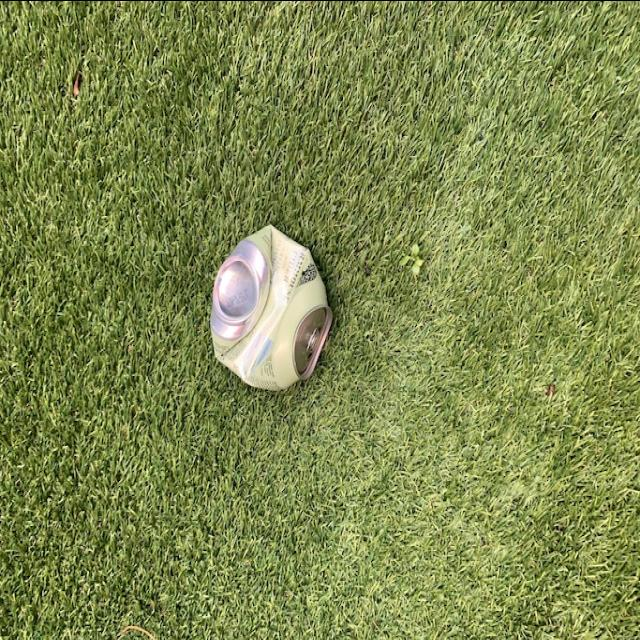Aluminum Can: (210, 216, 332, 388)
